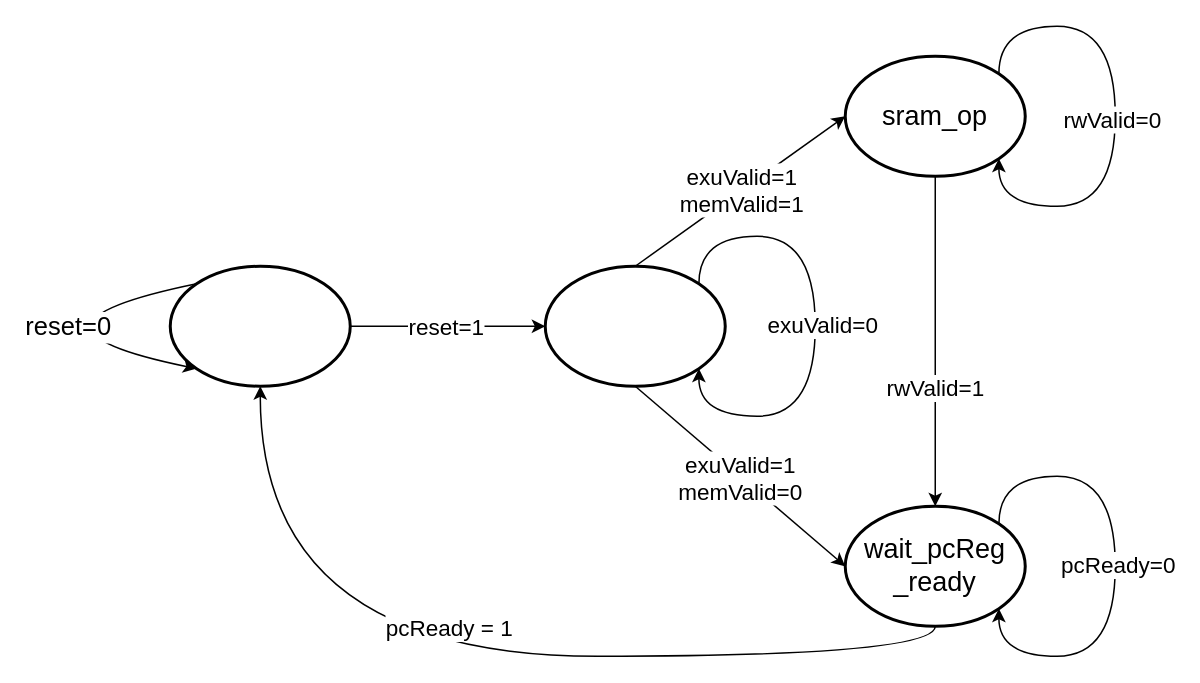
Some shapes in this 1200 by 683 pixel diagram are drawn without their labels. Each missing label, with the centre of its shape:
idle: (x=259, y=325)
wait_exu _valid: (x=634, y=325)
